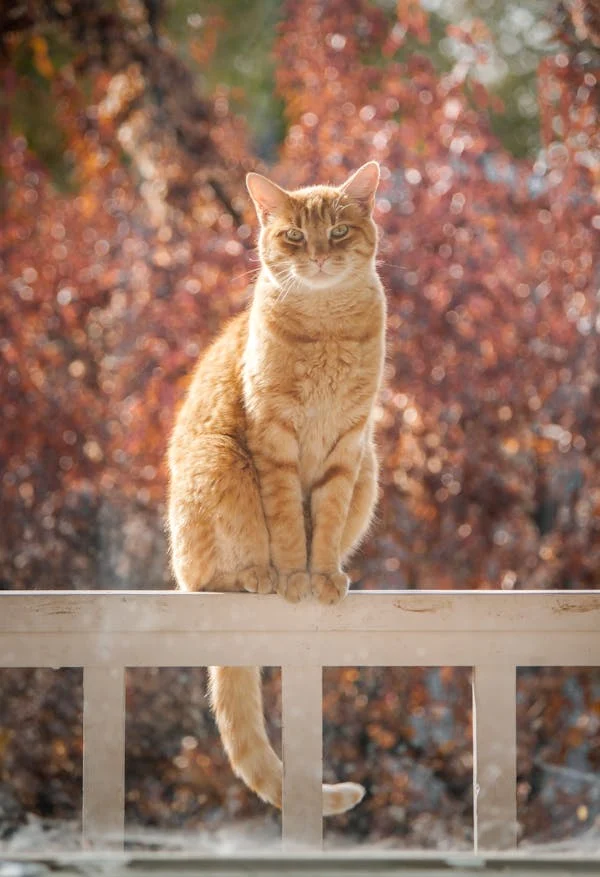Cat: (166, 156, 382, 815)
